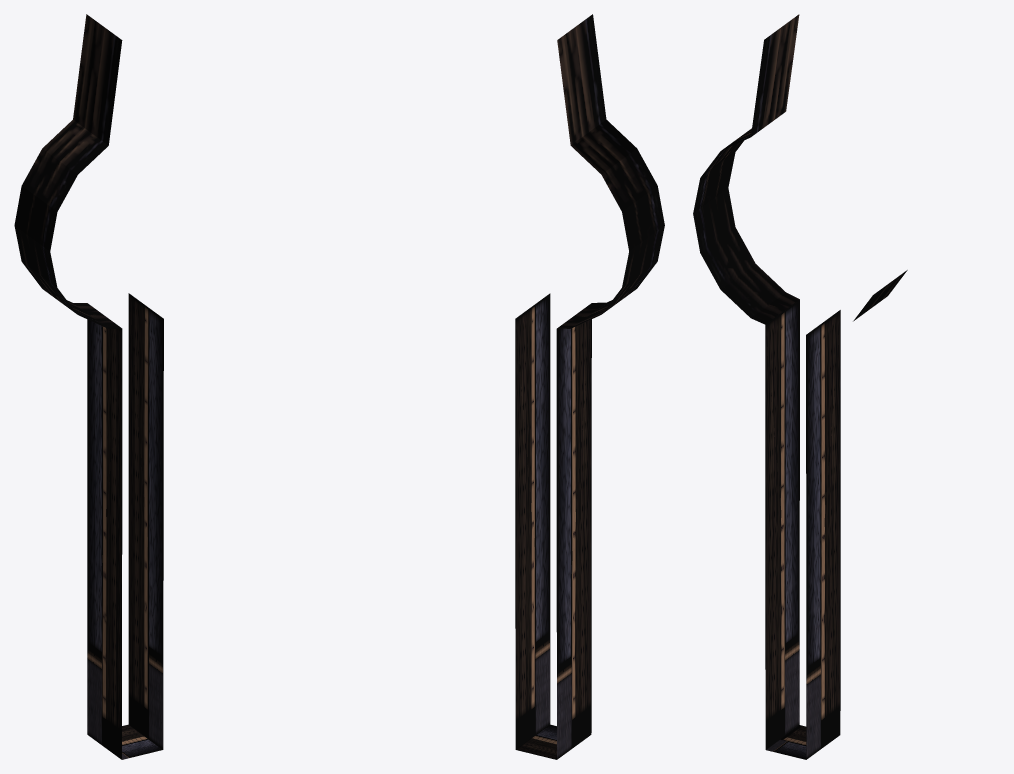
Rendered from collide_DoorYCorner2.obj.
The picture shows the model from 3 angles, left to right: view 1: azimuth 30°, elevation 25°; view 2: azimuth 150°, elevation 25°; view 3: azimuth 330°, elevation 25°; orthographic projection.
Parts seen in each view (by area): view 1: collide_DoorYCorner2_Cube.004, object 2; view 2: collide_DoorYCorner2_Cube.004, object 2; view 3: collide_DoorYCorner2_Cube.004, object 2.
Part boxes in pixels (left/top/right/bottom): collide_DoorYCorner2_Cube.004: left=87, top=293, right=163, bottom=759; object 2: left=14, top=14, right=122, bottom=328; collide_DoorYCorner2_Cube.004: left=515, top=293, right=591, bottom=759; object 2: left=557, top=14, right=664, bottom=328; collide_DoorYCorner2_Cube.004: left=765, top=299, right=840, bottom=759; object 2: left=693, top=14, right=907, bottom=324.
Size of the model in its own units: 198 by 494 by 44.53.
